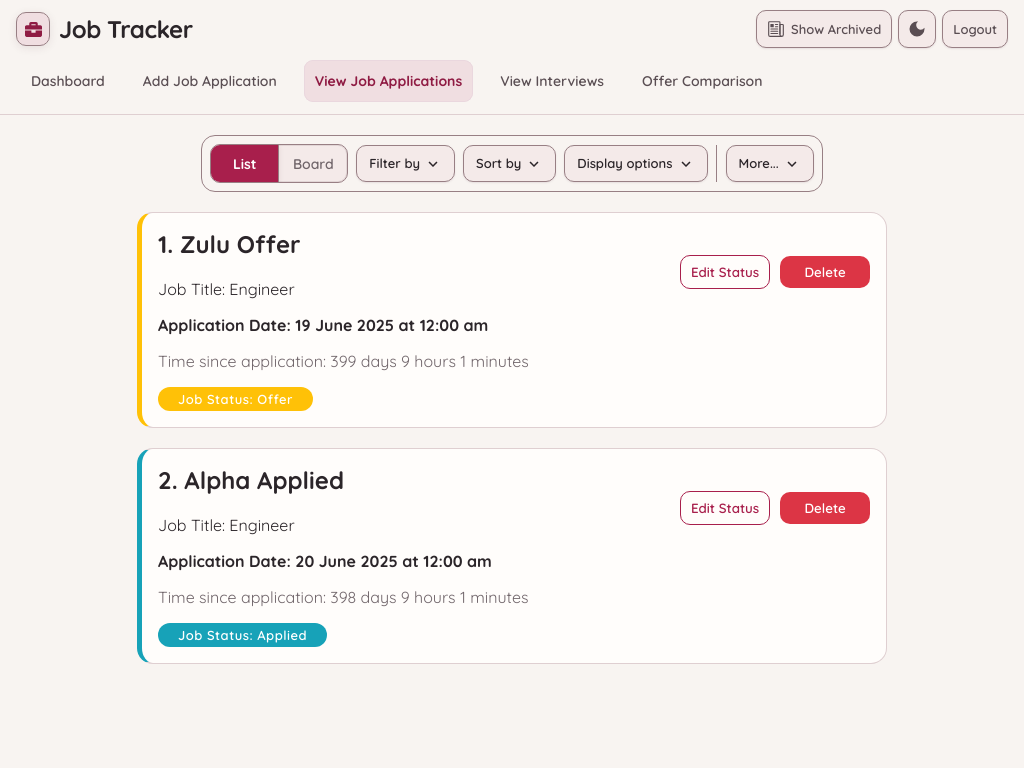
it: App routing and authentication behavior › persists a visible Sort by choice through the production preference provider and reorders cards
The width and height of the screenshot is (1024, 768).
Check: the heading "1. Zulu Offer" is shown, box [158,229,300,259]
Click the button "Sort by" at (510, 164), box [463,145,556,182]
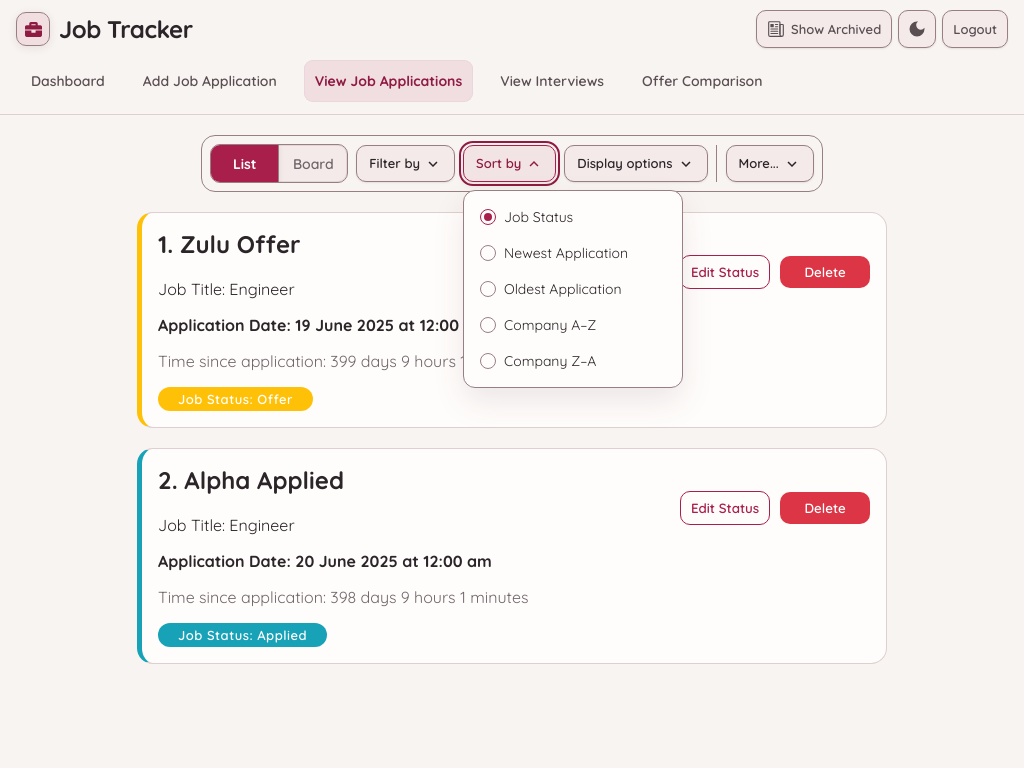
Click the text "Company A–Z" at (550, 325), box [504,316,596,334]
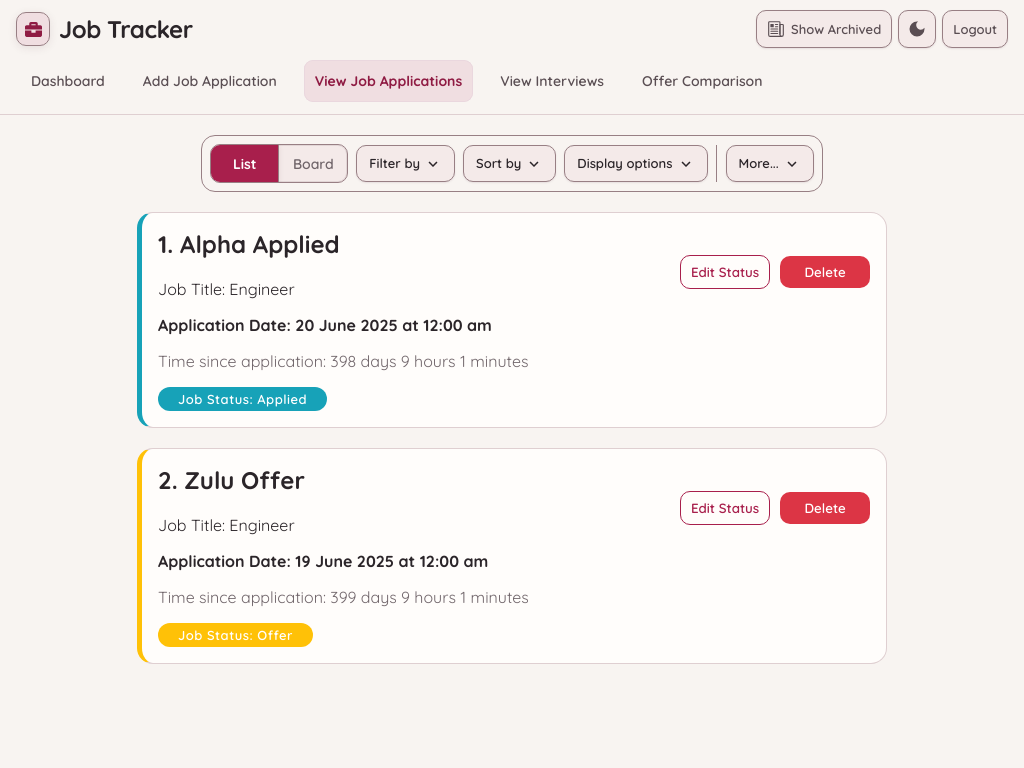
Check: the heading "1. Alpha Applied" is shown, box [158,229,340,259]
